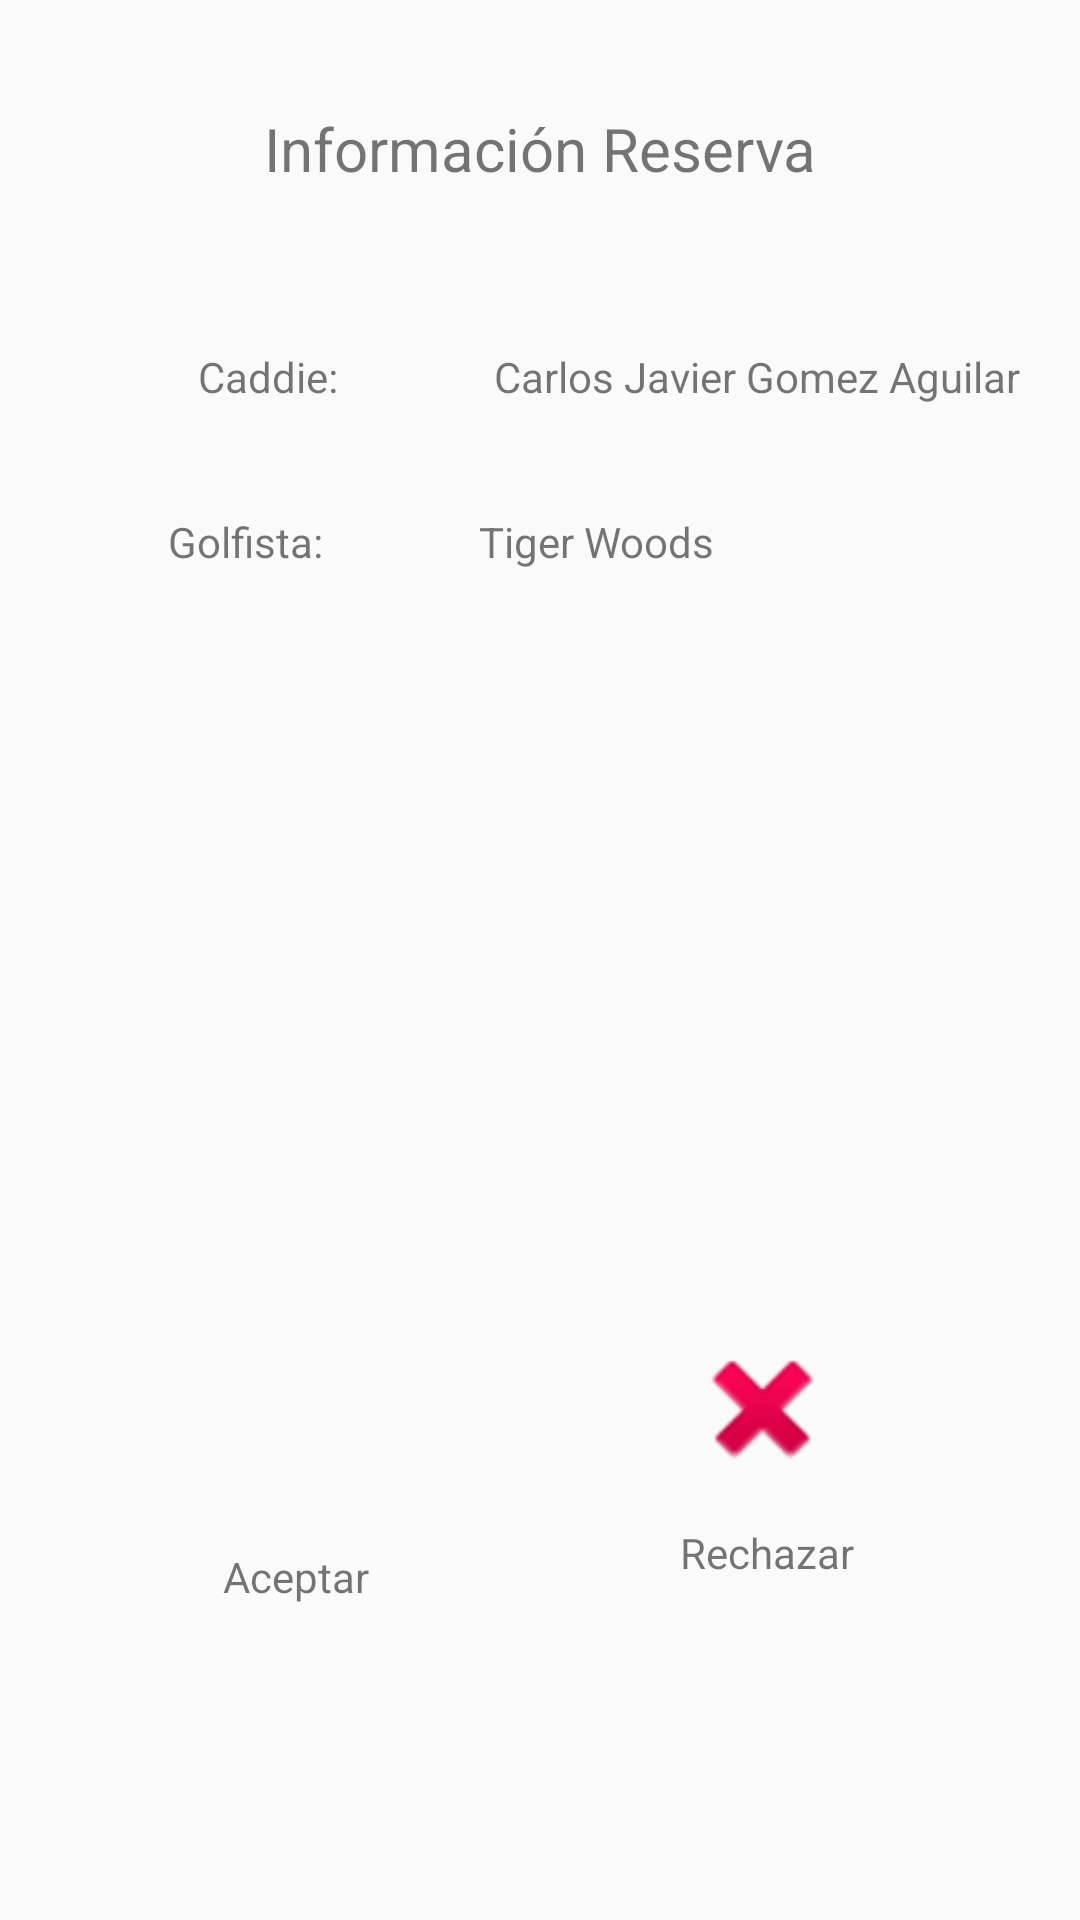

Screen size 1080 x 1920. Icon name, then its center in pixels as (x,y):
Imageview para eliminar la reserva: (762,1409)
